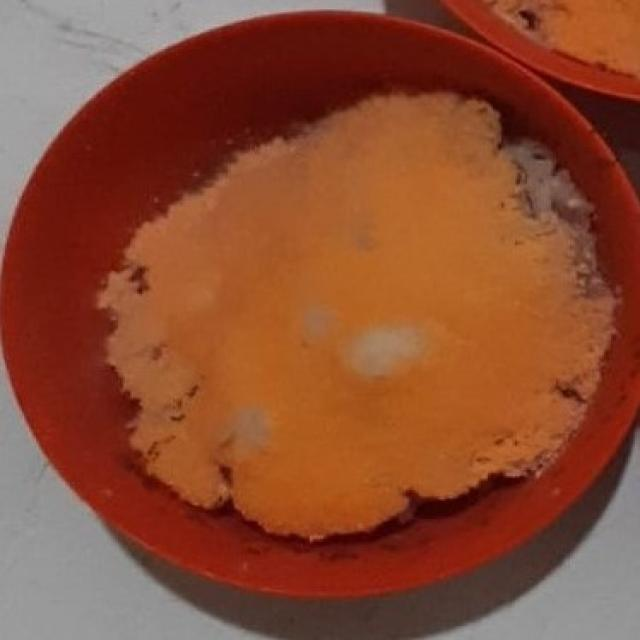organik: (111, 97, 604, 530)
